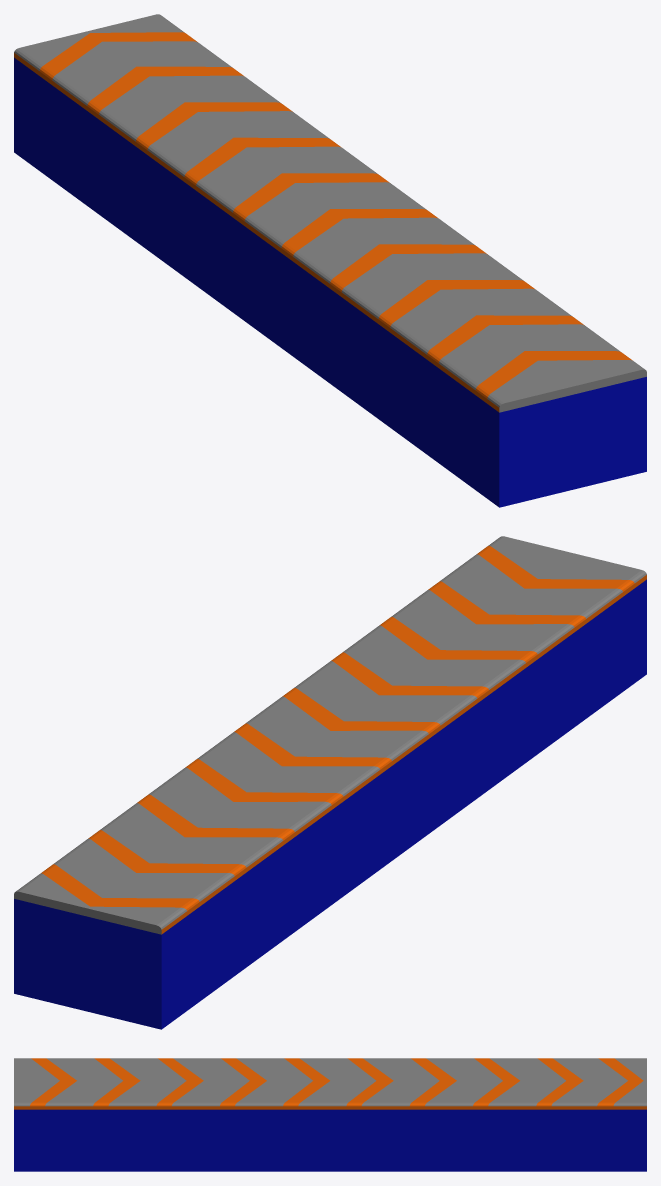
The model's file is blatform.fbx.
3 views of the same model, one above another, from view 1: azimuth 30°, elevation 25°; view 2: azimuth 150°, elevation 25°; view 3: azimuth 270°, elevation 25° (orthographic). The views are drawn at different scales.
Parts seen in each view (by area): view 1: platform; view 2: platform; view 3: platform.
Part boxes in pixels (x1,y1,x2,y2): platform: (14, 14, 646, 507); platform: (14, 536, 646, 1029); platform: (14, 1058, 646, 1171).
Bounding box in the file's own units: 348 × 233 × 1983.
